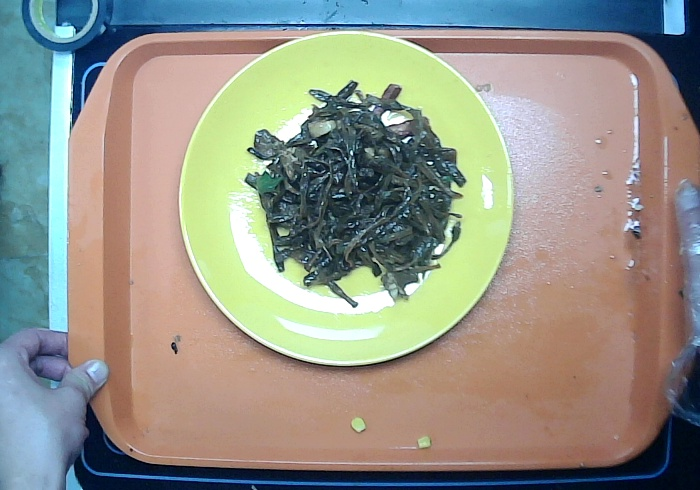HZYJPL-Huang_Se_Yuan_Pan: (176, 28, 515, 367)
